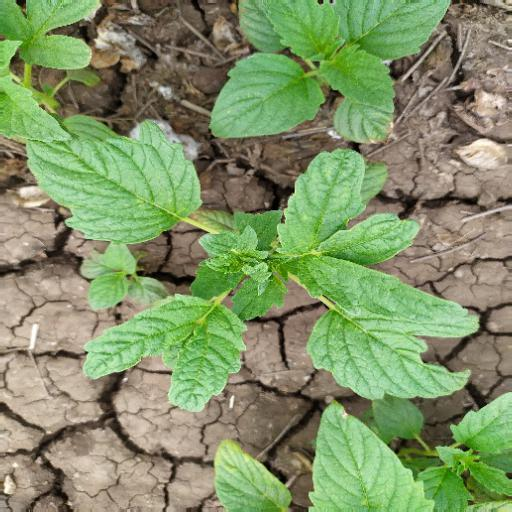crop: (16, 115, 487, 421), (175, 2, 486, 154)
